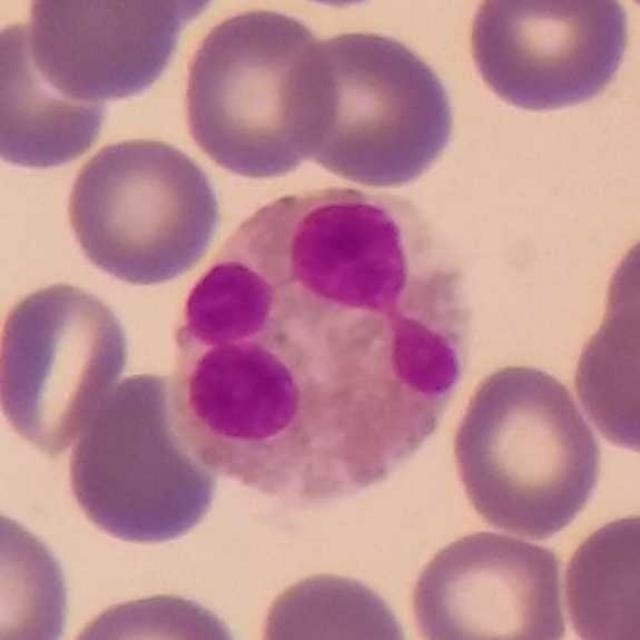eosino: (161, 177, 487, 501)
